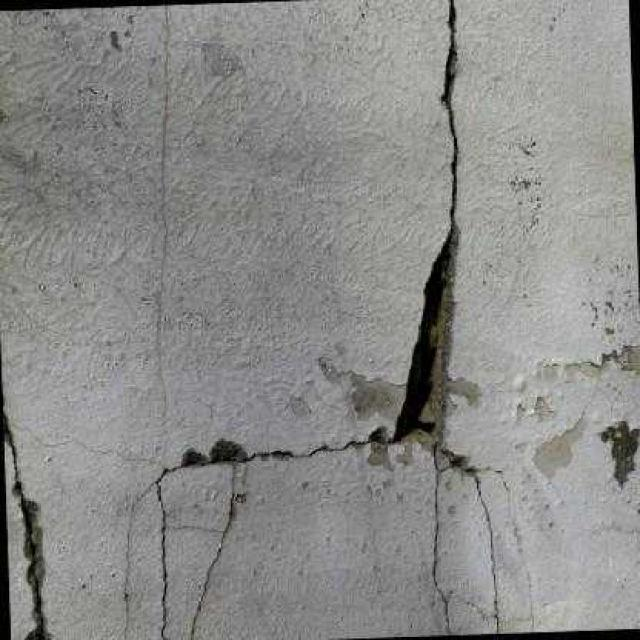D00: (147, 0, 466, 640), (2, 371, 48, 640), (471, 467, 503, 634), (428, 476, 458, 636)
